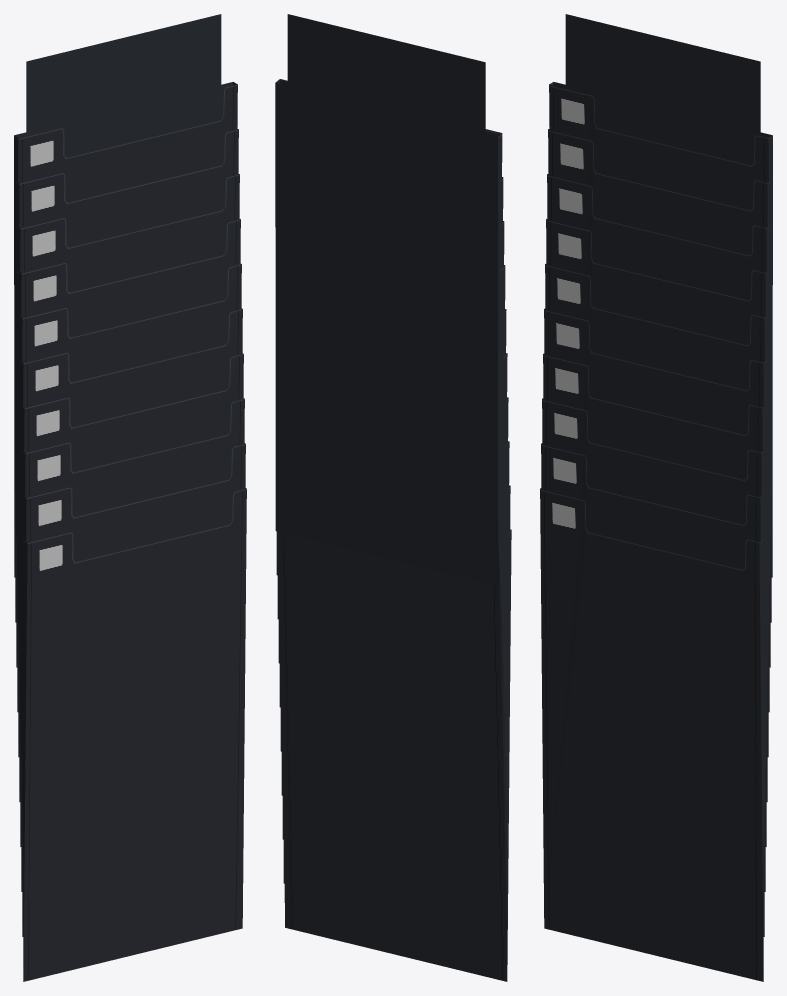
File: timeCardRack.obj
3 views of the same model, side by side, from view 1: azimuth 30°, elevation 25°; view 2: azimuth 150°, elevation 25°; view 3: azimuth 330°, elevation 25° (orthographic).
Visible parts, largest first — view 1: Cube.001; view 2: Cube.001; view 3: Cube.001.
Part boxes in pixels (x1=…): Cube.001: x1=14, y1=14, x2=246, y2=981; Cube.001: x1=275, y1=14, x2=511, y2=981; Cube.001: x1=540, y1=14, x2=772, y2=981.
Size of the model in its own units: 0.1361 by 0.5397 by 0.0145.
1 material, 1 textured.
